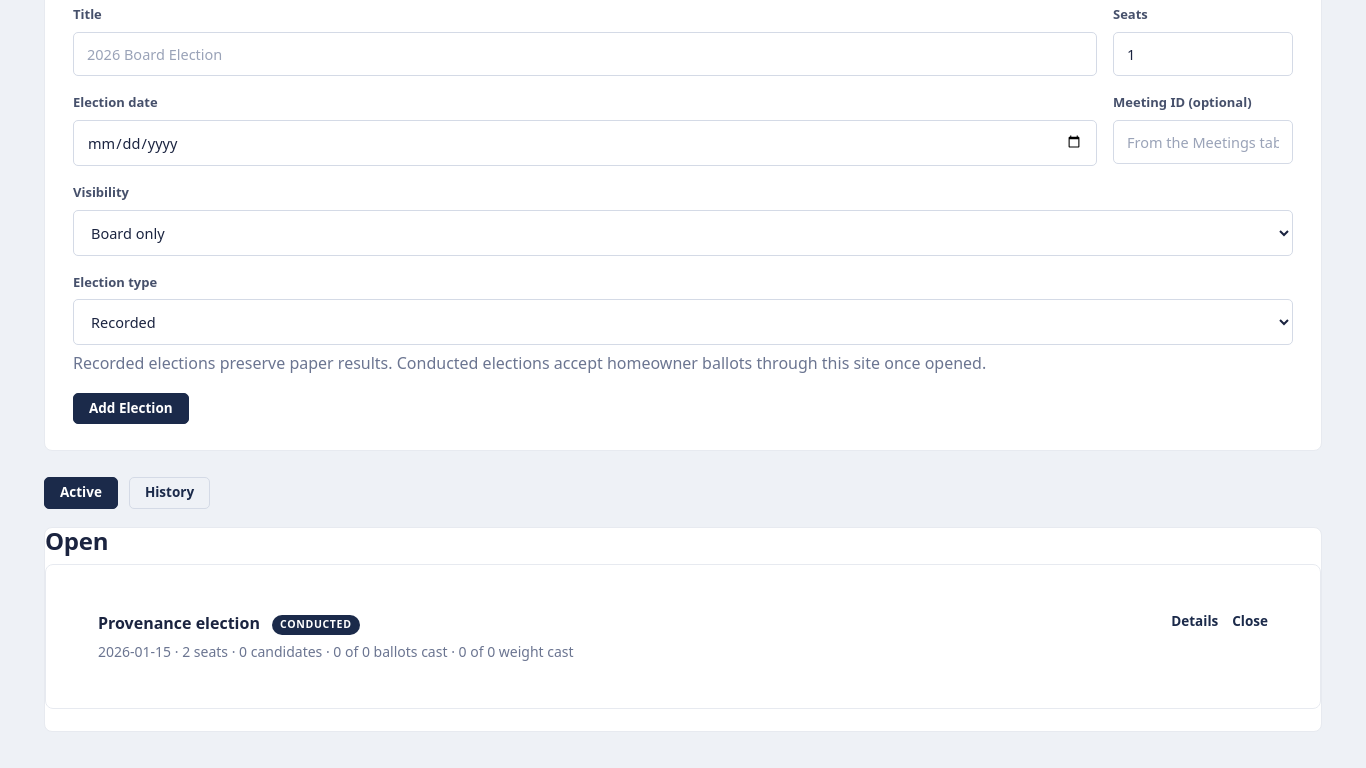
Scenario: ElectionsManager › shows eligibility and turnout provenance without a selection field
(page scrolled)
Step 1. Click the button "Details" → (1195, 622), box [1171, 611, 1218, 633]
(page scrolled)
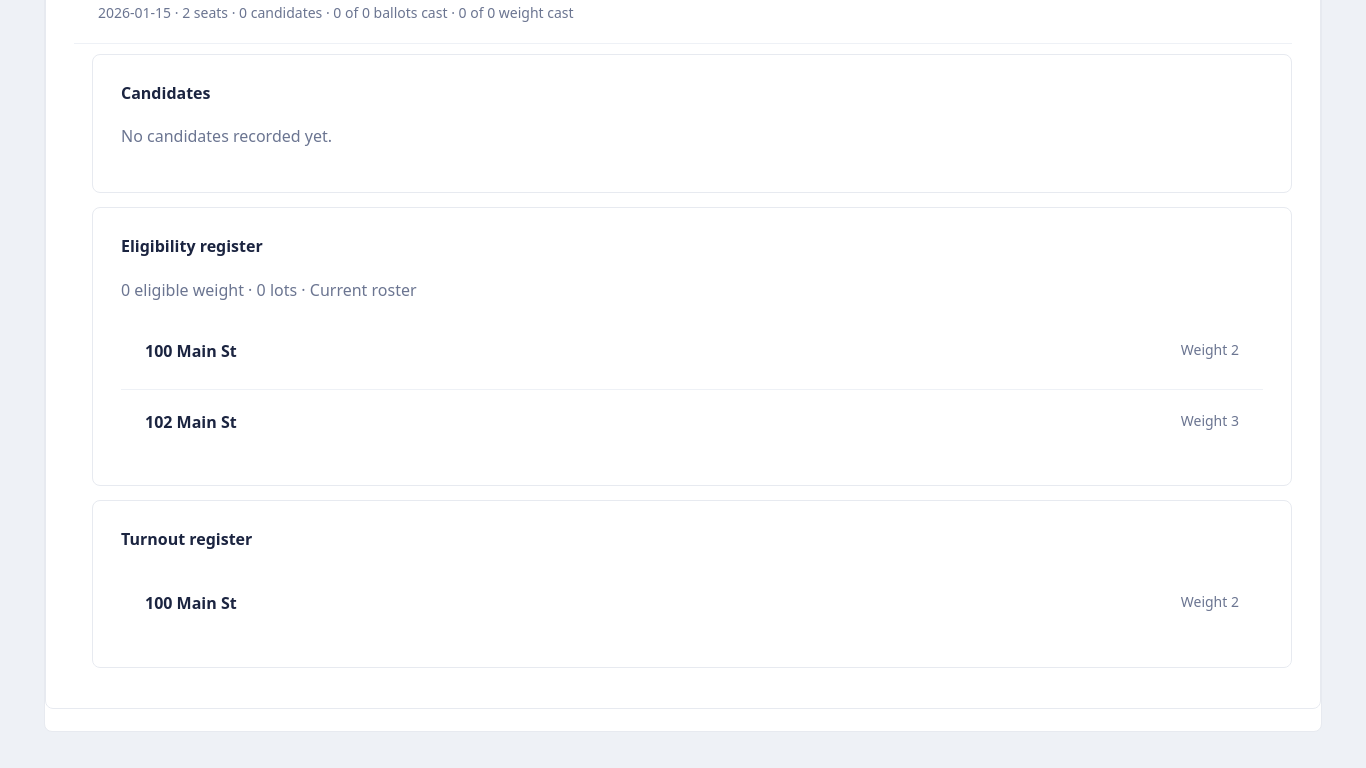
Expected: the text "100 Main St" below "eligible weight ·" is shown, [145, 340, 237, 362]
Expected: the text "102 Main St" is shown, [145, 411, 237, 433]
Expected: the 1st text "Weight 2" is shown, [1181, 339, 1239, 360]
